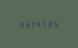five: (53, 19, 58, 27)
four: (35, 20, 40, 27)
one: (29, 20, 34, 28)
seven: (41, 19, 46, 27)
three: (17, 20, 22, 28), (47, 19, 52, 27)
two: (23, 20, 28, 28)
